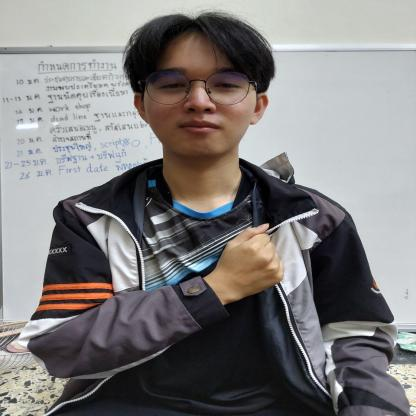Sad: (182, 218, 304, 313)
